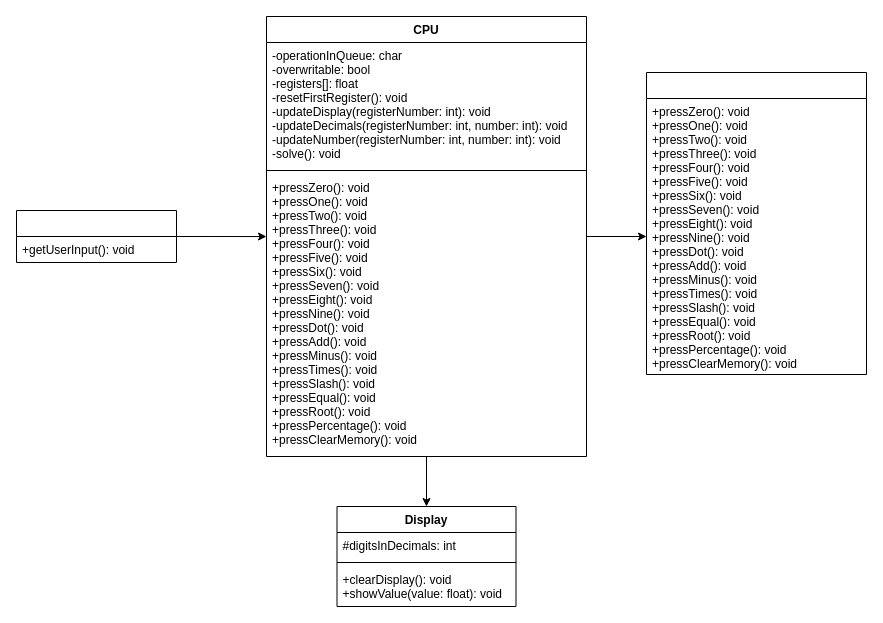
Image size: 883x623. Some labels were removed from this diagram. Each missing label, with the box of its shape:
Calculator: (16, 210, 176, 262)
Keyboard: (646, 72, 866, 374)
